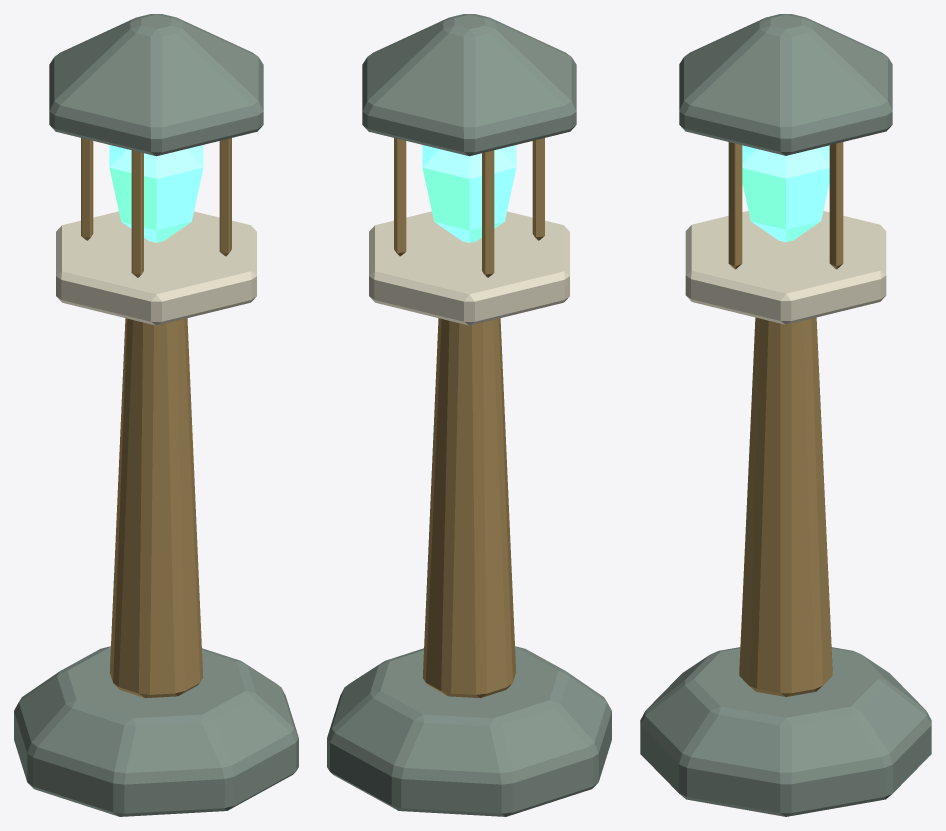
The model's file is lantern.glb.
3 renders of one model, left to right at view 1: azimuth 30°, elevation 25°; view 2: azimuth 150°, elevation 25°; view 3: azimuth 270°, elevation 25°, orthographic.
Visible parts, largest first — view 1: lantern / mesh; view 2: lantern / mesh; view 3: lantern / mesh.
Boxes of the visible parts, x1=… form: lantern / mesh: x1=14, y1=14, x2=298, y2=816; lantern / mesh: x1=327, y1=14, x2=611, y2=816; lantern / mesh: x1=640, y1=14, x2=931, y2=816.
Bounding box in the file's own units: 1.18 × 3.29 × 1.18.
